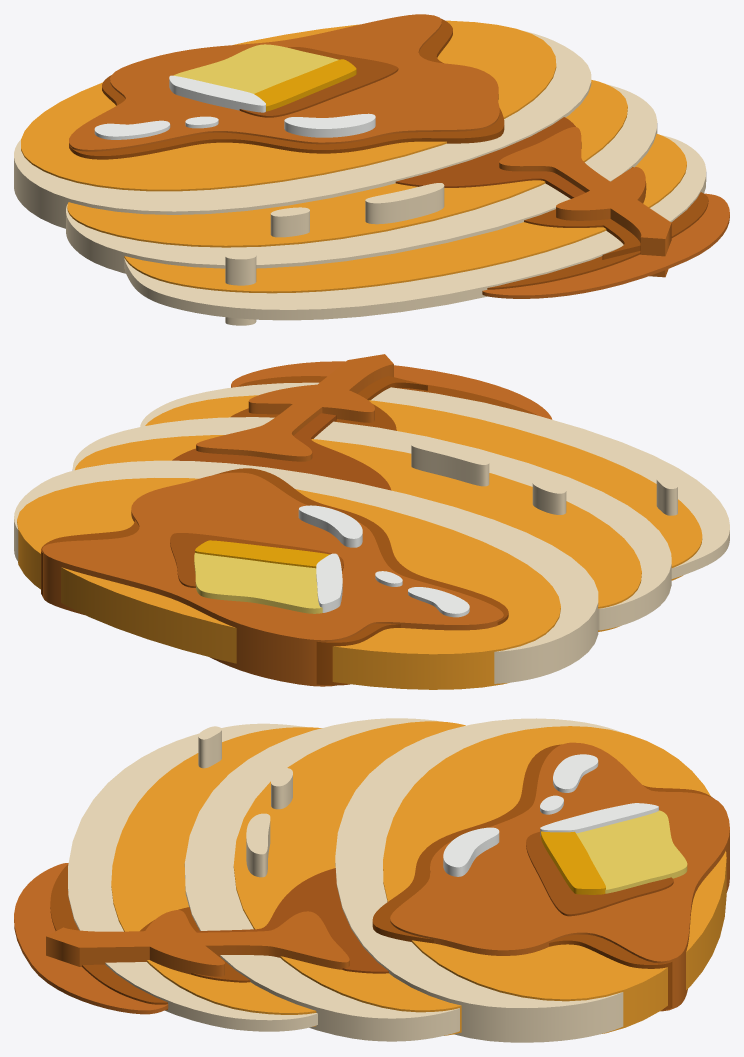
Rendered from emoji_u1f95e.glb.
3 renders of one model, top to bottom at view 1: azimuth 30°, elevation 25°; view 2: azimuth 150°, elevation 25°; view 3: azimuth 270°, elevation 25°, orthographic. The views are drawn at different scales.
Parts seen in each view (by area): view 1: emoji_u1f95e; view 2: emoji_u1f95e; view 3: emoji_u1f95e.
Part boxes in pixels (x1,y1,x2,y2): emoji_u1f95e: (14,14,729,325); emoji_u1f95e: (14,354,729,689); emoji_u1f95e: (14,718,729,1042).
Size of the model in its own units: 0.0336 by 0.0038 by 0.0338.
